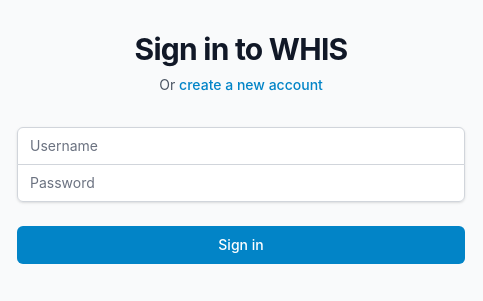
Scenario: Login form › shows required-field errors on empty submit
The image size is (483, 301).
What coordinates should you click on to do the following:
click the button "Sign in"
I would click on:
 (241, 244)
Its box is [17,226,465,264].
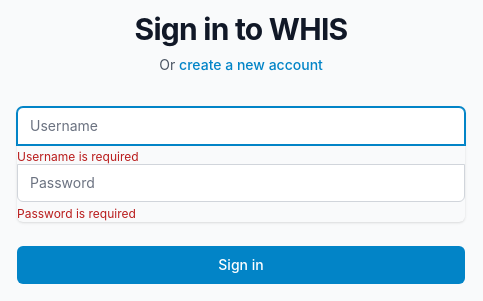
Check: the text "Username is required" is shown, box [17,148,139,164]
Check: the text "Password is required" is shown, box [17,206,136,220]
